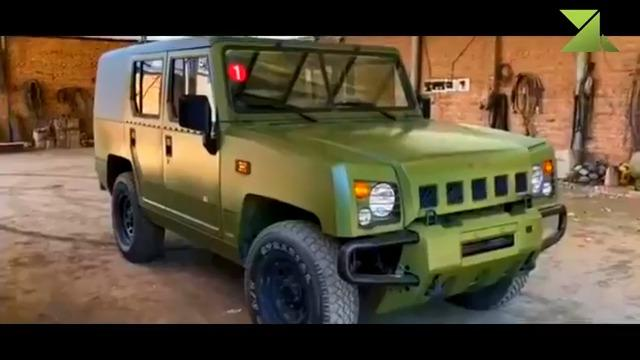MIL_HMMWV: (92, 35, 568, 323)
